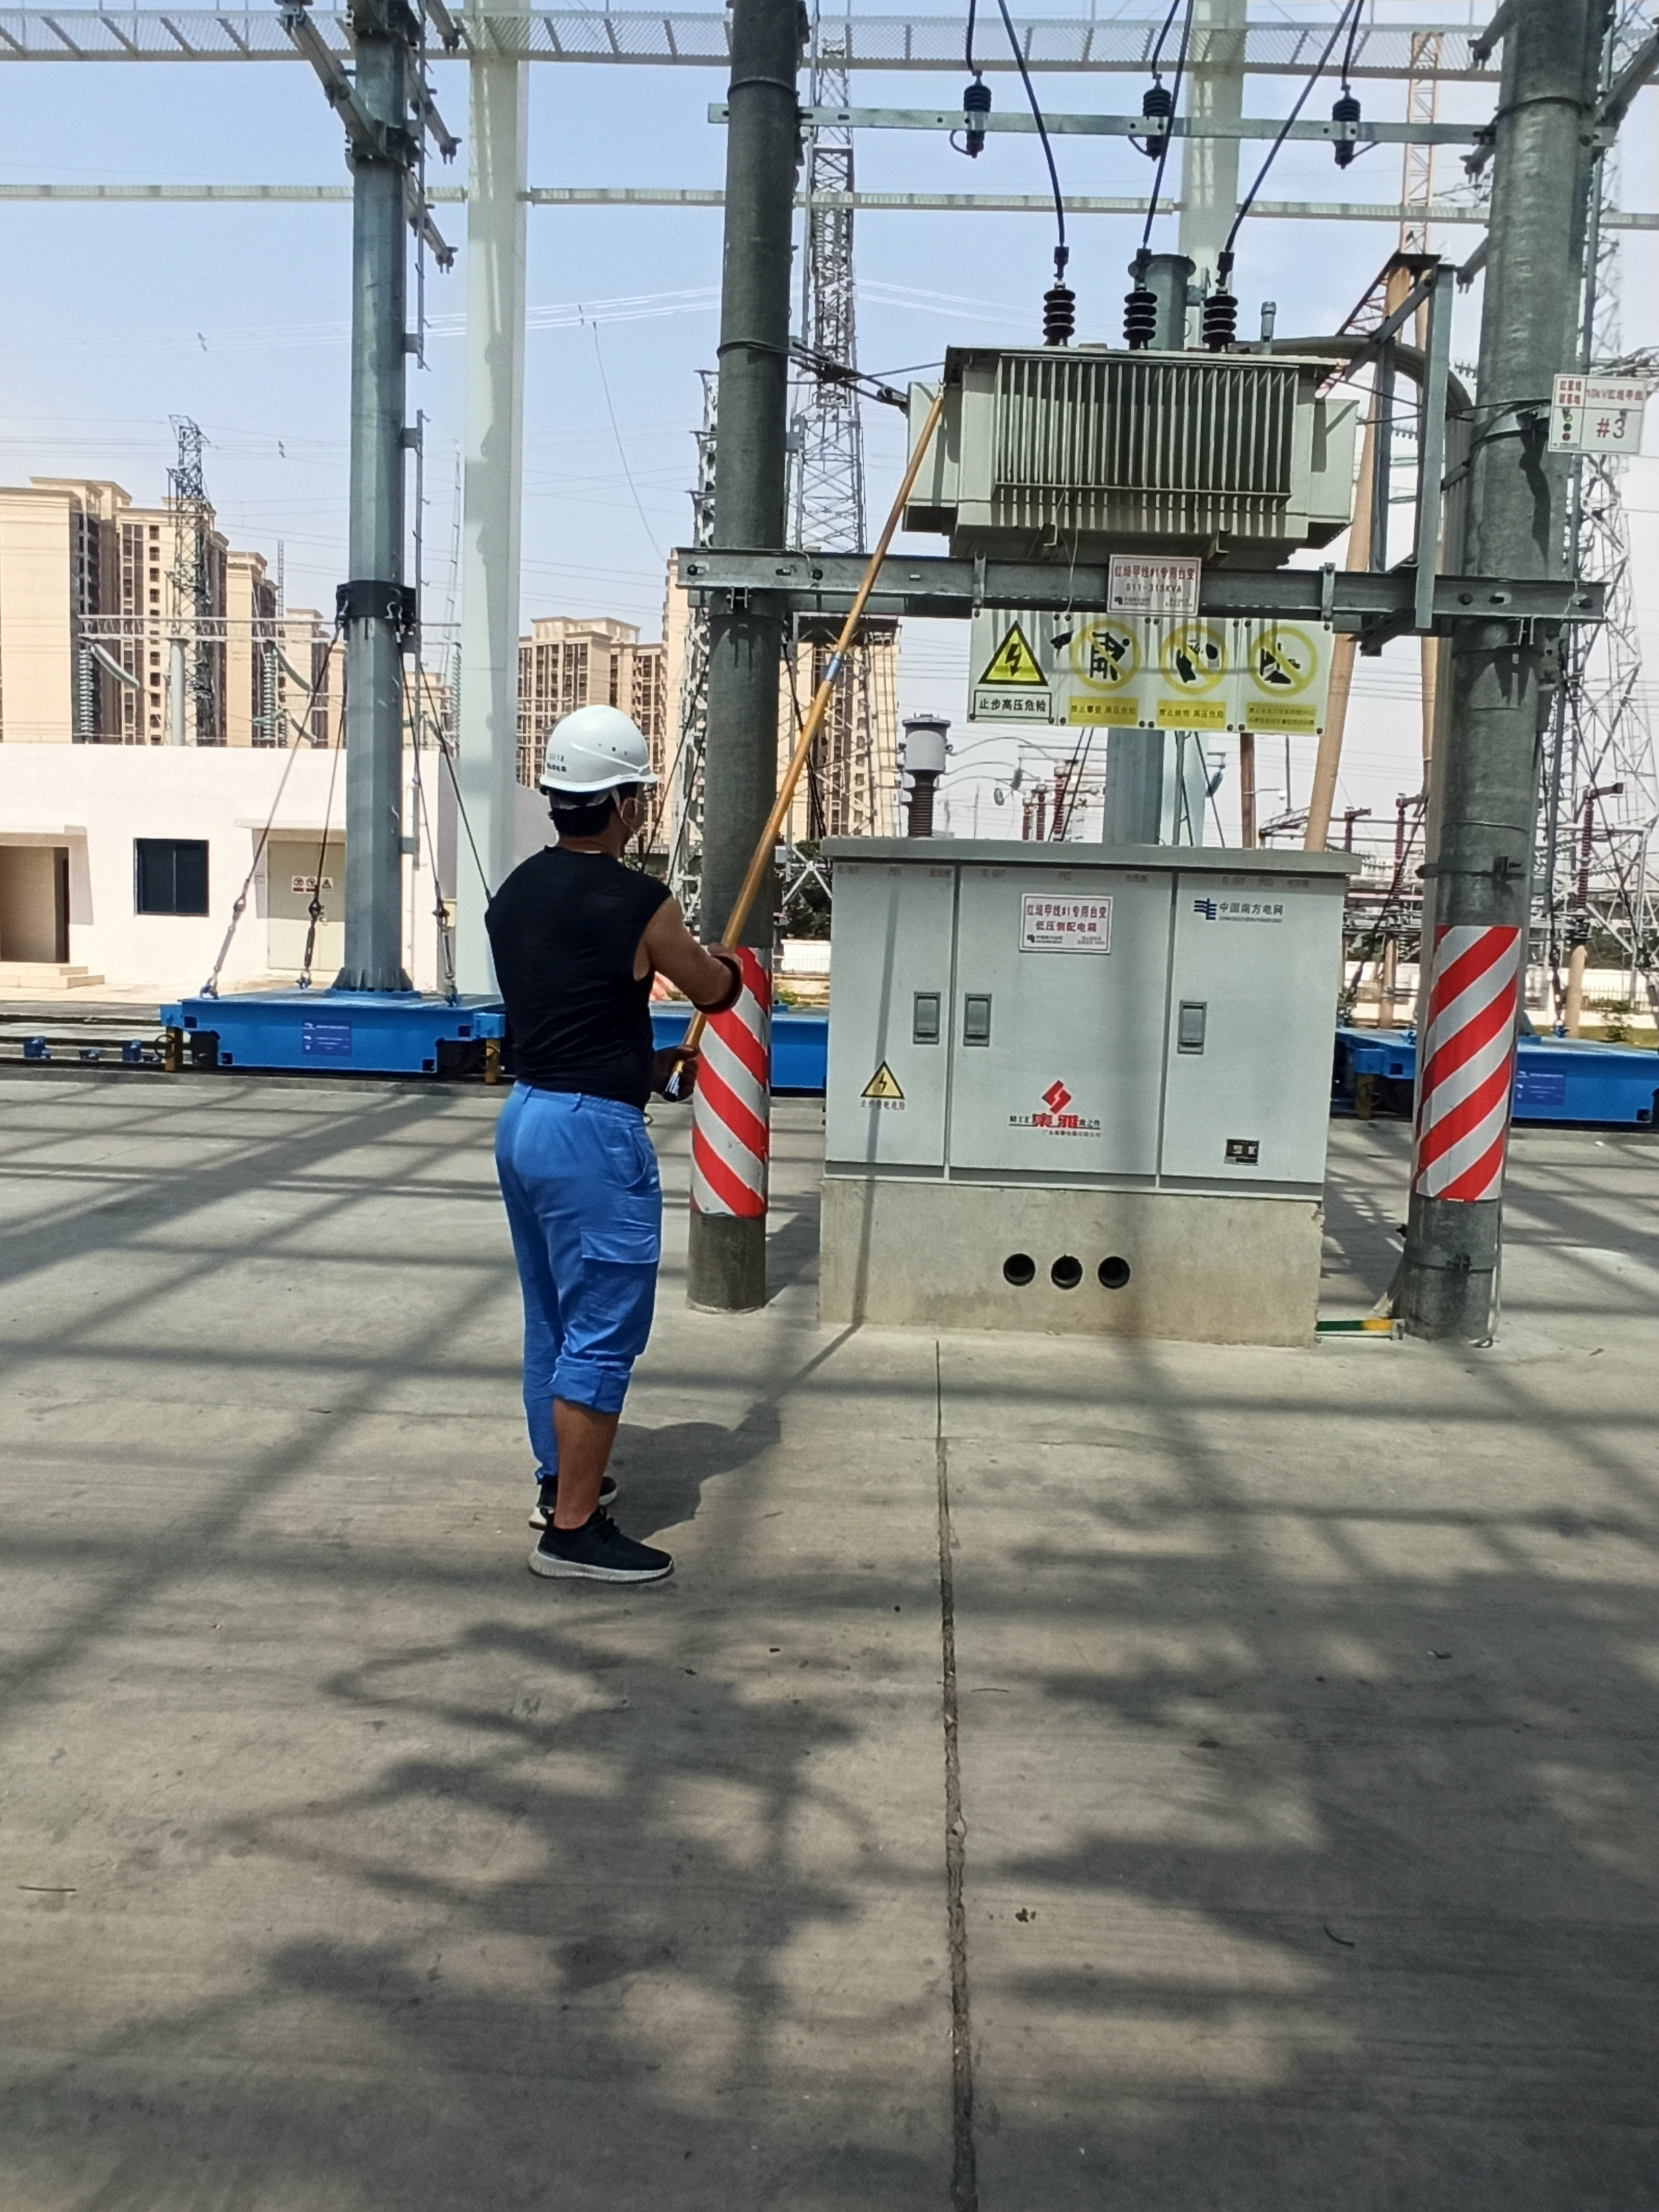downsuit: (480, 1097, 678, 1519)
halt: (533, 704, 663, 855)
longglove: (702, 935, 745, 1017)
operatingbar: (682, 374, 947, 1062)
person: (464, 699, 754, 1588)
upcloth: (483, 846, 690, 1089)
wrongbottom: (541, 1355, 634, 1534)
